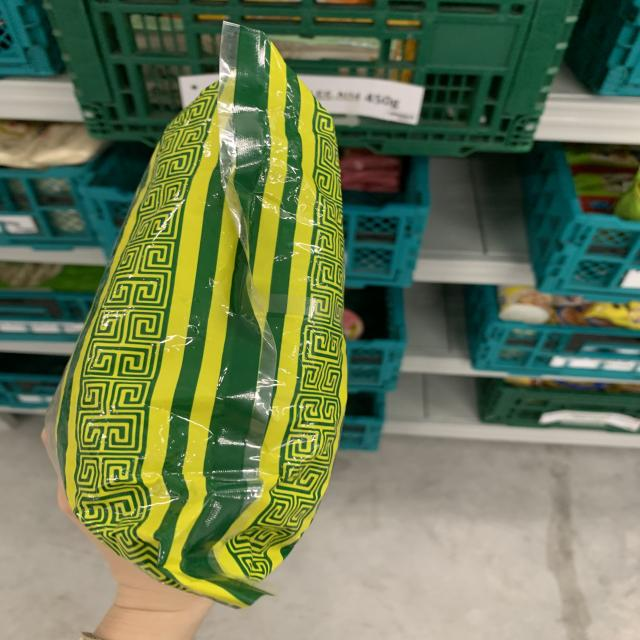object_name: (116, 81, 328, 554)
